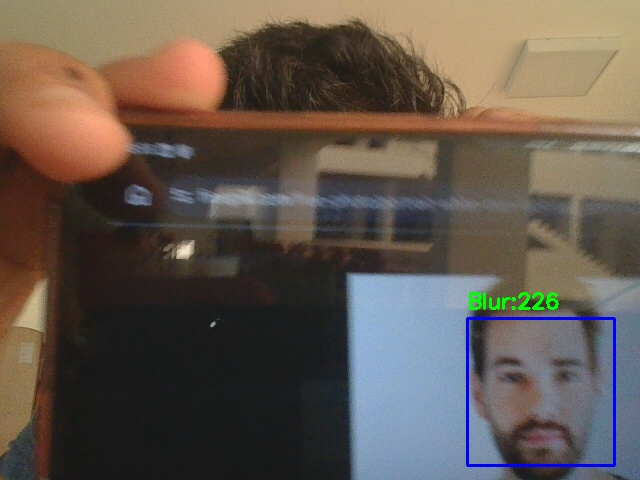fake: (467, 318, 614, 465)
